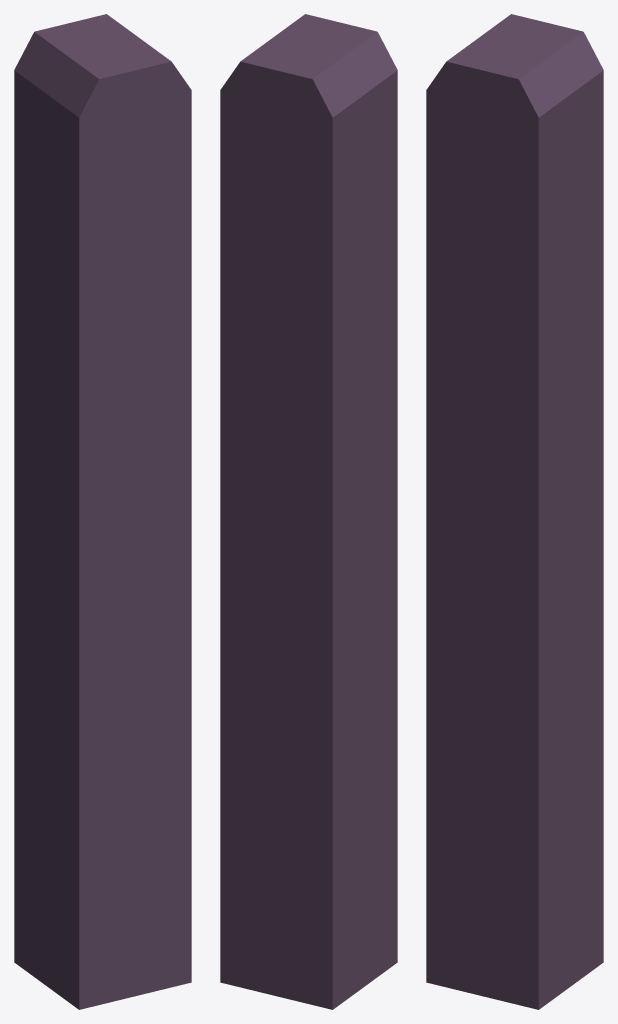
File: TW_WOOD_POST_A_LOD0.glb
3 renders of one model, left to right at view 1: azimuth 30°, elevation 25°; view 2: azimuth 150°, elevation 25°; view 3: azimuth 330°, elevation 25°, orthographic.
Visible parts, largest first — view 1: TW_WOOD_POST_A_LOD0; view 2: TW_WOOD_POST_A_LOD0; view 3: TW_WOOD_POST_A_LOD0.
Boxes of the visible parts, bbox=[...] form: TW_WOOD_POST_A_LOD0: bbox=[14, 14, 191, 1009]; TW_WOOD_POST_A_LOD0: bbox=[220, 14, 397, 1009]; TW_WOOD_POST_A_LOD0: bbox=[426, 14, 603, 1009].
Bounding box in the file's own units: 0.14 × 1.1 × 0.14.
1 material, 1 textured.
